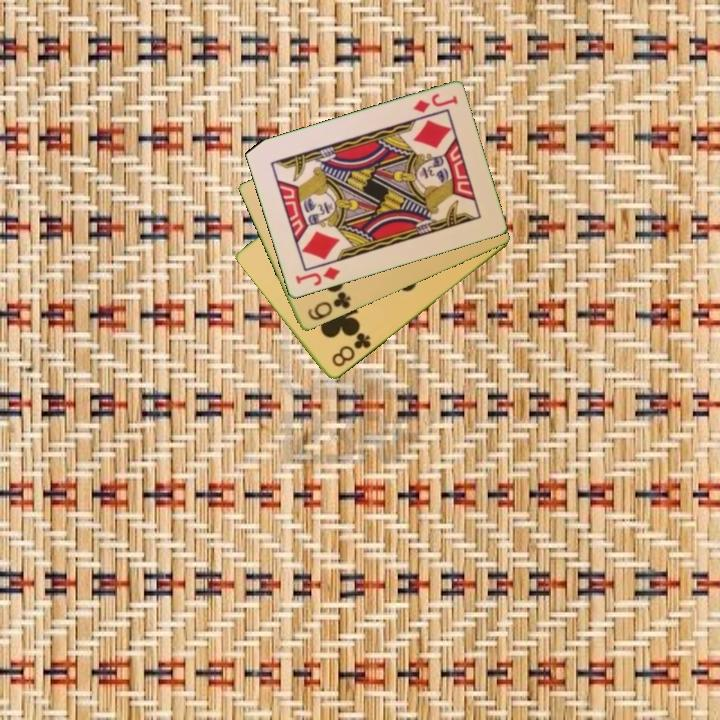6c: (304, 288, 354, 324)
8c: (328, 329, 374, 370)
Jd: (292, 263, 343, 289), (409, 90, 460, 116)
